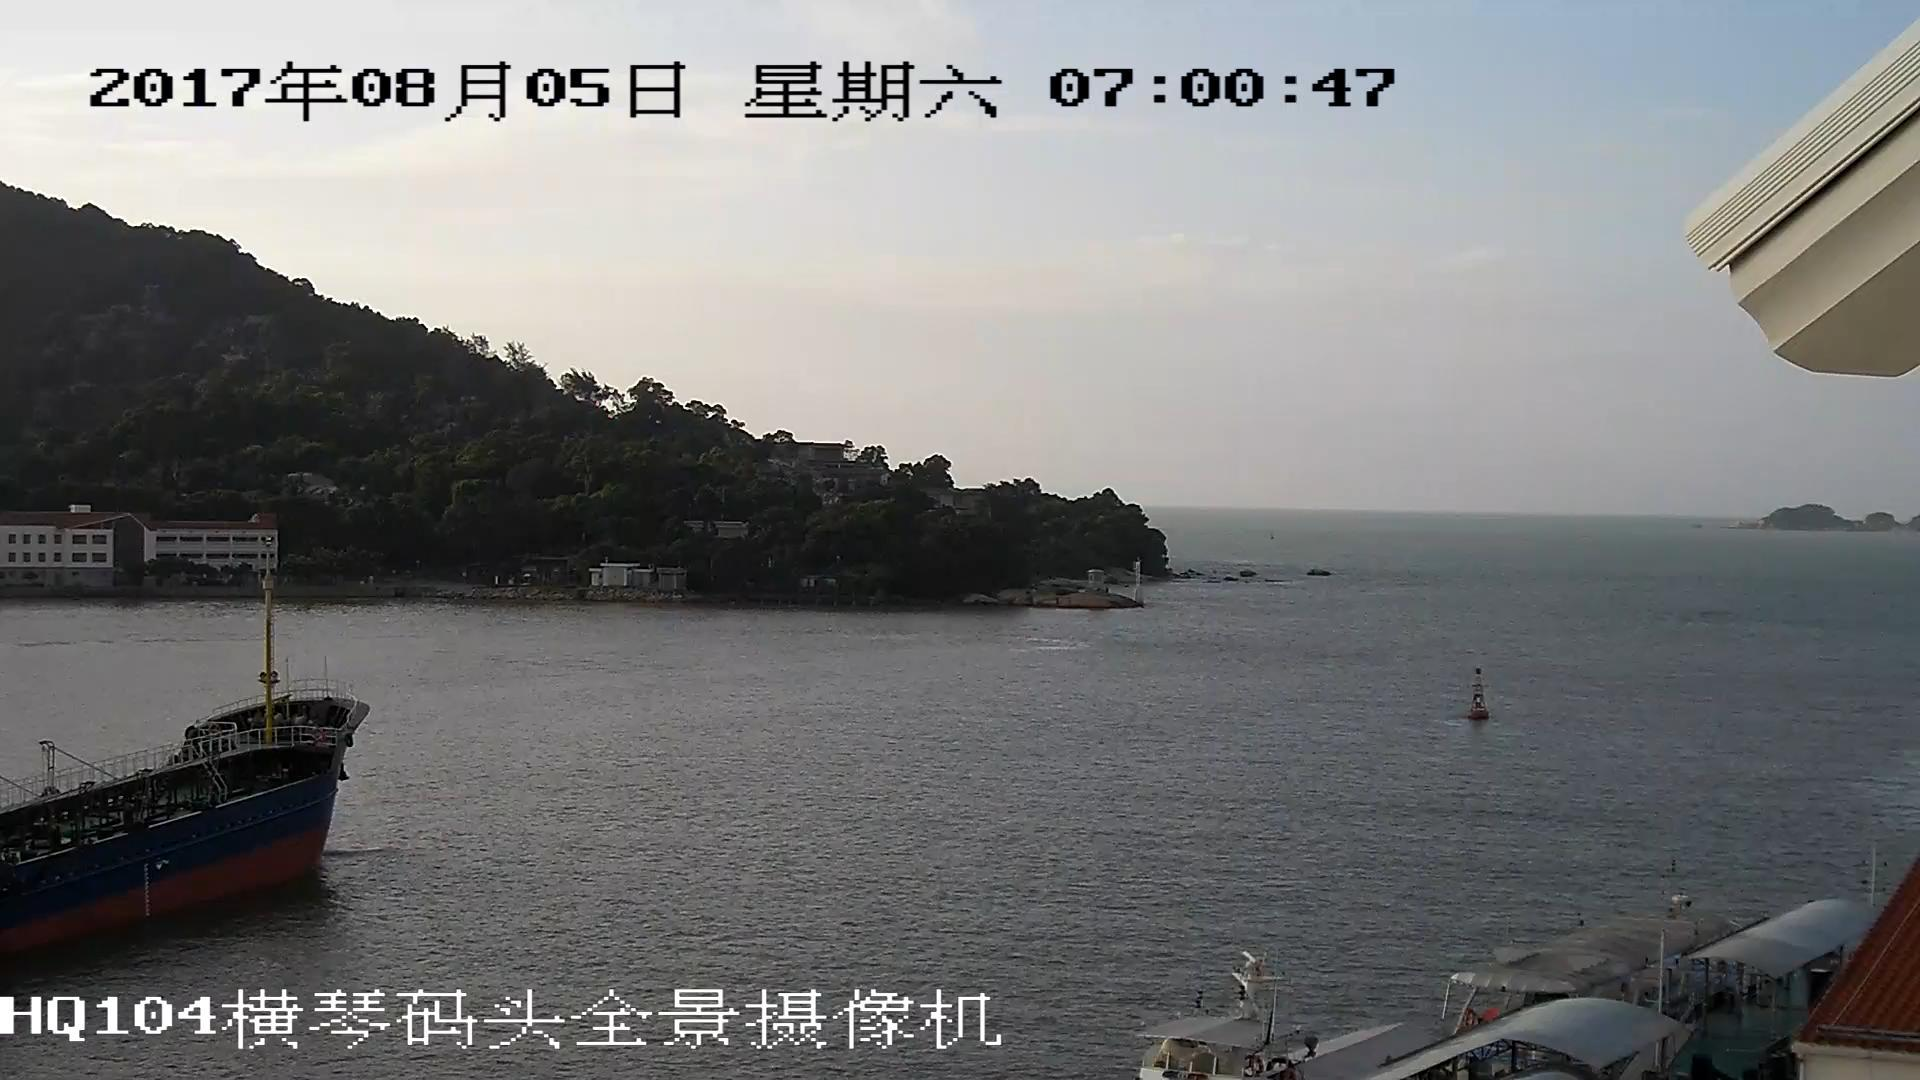Ship: (3, 574, 356, 982)
